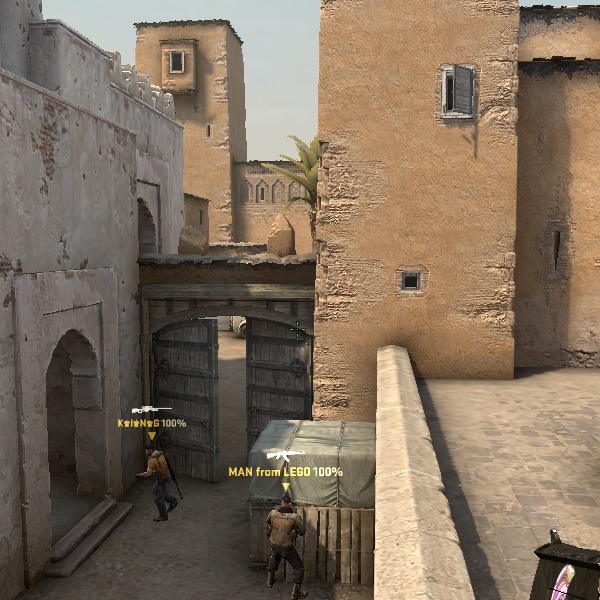t_body: (263, 497, 306, 594), (133, 444, 178, 521)
t_head: (281, 496, 292, 512), (146, 444, 157, 458)
